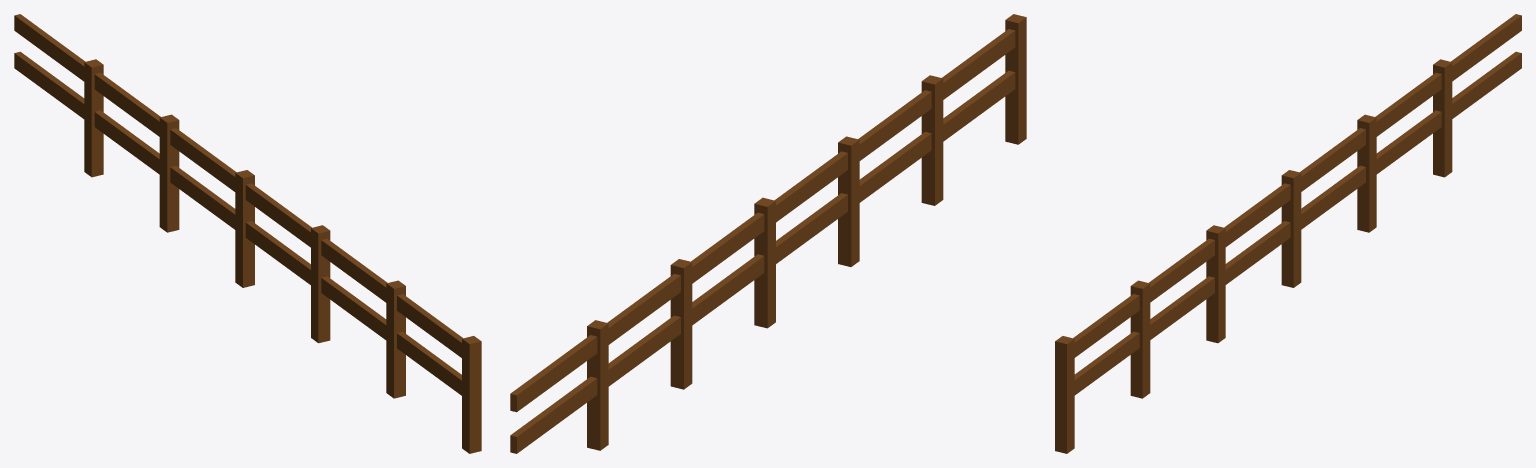
Rendered from Fence_2.fbx.
The picture shows the model from 3 angles, left to right: view 1: azimuth 30°, elevation 25°; view 2: azimuth 150°, elevation 25°; view 3: azimuth 330°, elevation 25°; orthographic projection. The views are drawn at different scales.
Visible parts, largest first — view 1: Cube.008; view 2: Cube.008; view 3: Cube.008.
Boxes of the visible parts, left/top/right/bottom form: Cube.008: left=14, top=14, right=481, bottom=453; Cube.008: left=510, top=14, right=1026, bottom=453; Cube.008: left=1055, top=14, right=1521, bottom=453.
Bounding box in the file's own units: 39.2 × 344 × 2602.
